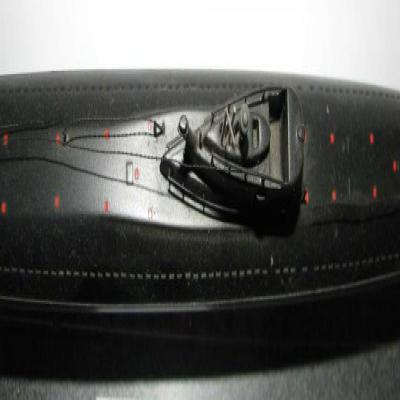other: (0, 68, 400, 386)
